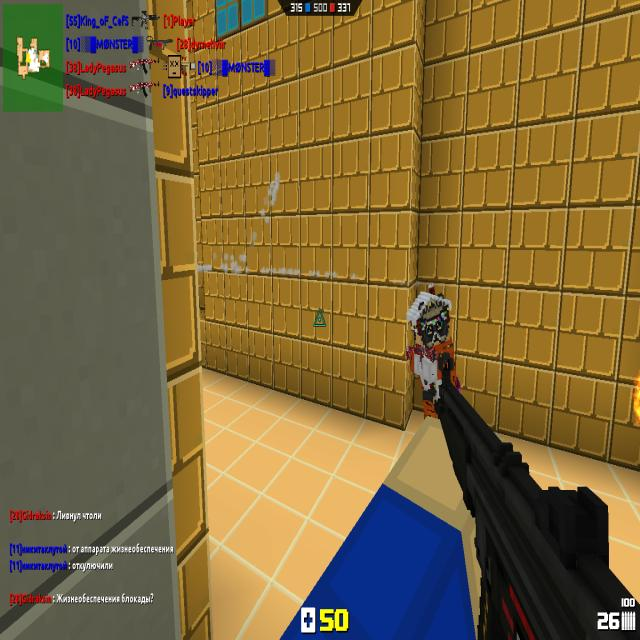enemy: (406, 283, 461, 420)
